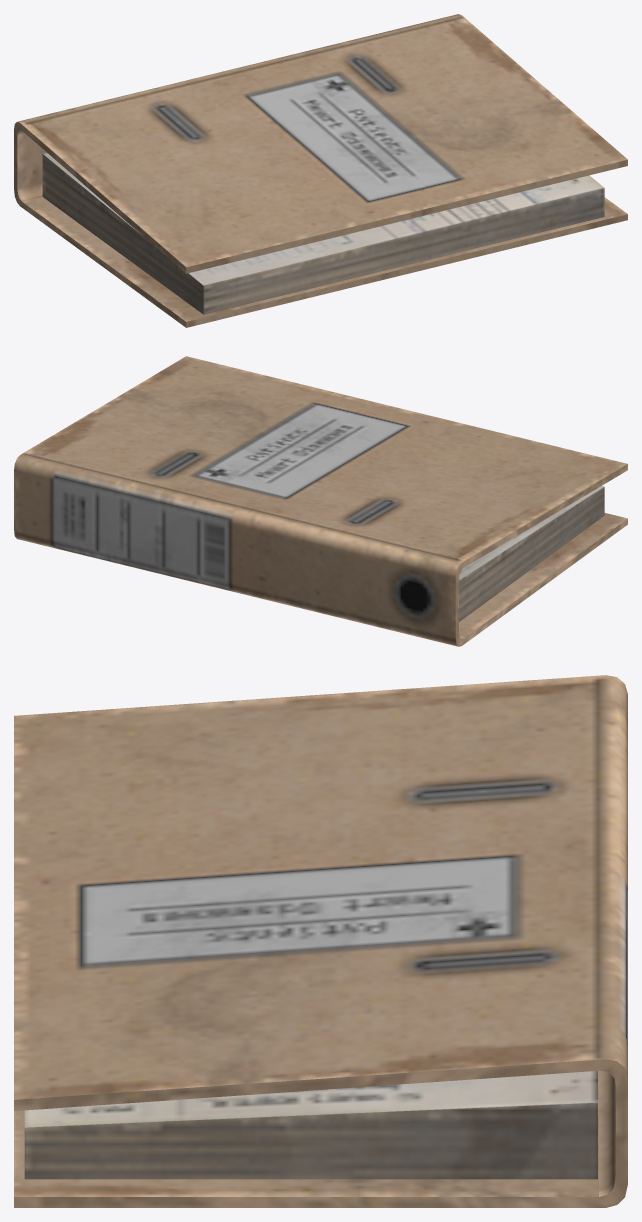
The model's file is HH_Registrar_Folder_01.fbx.
3 renders of one model, top to bottom at view 1: azimuth 30°, elevation 25°; view 2: azimuth 150°, elevation 25°; view 3: azimuth 270°, elevation 25°, orthographic. The views are drawn at different scales.
Visible parts, largest first — view 1: HH_Registrar_Folder_01; view 2: HH_Registrar_Folder_01; view 3: HH_Registrar_Folder_01.
Boxes of the visible parts, x1,y1,x2,y2 form: HH_Registrar_Folder_01: (14,14,627,327); HH_Registrar_Folder_01: (14,356,627,646); HH_Registrar_Folder_01: (14,675,627,1207).
Size of the model in its own units: 46.94 by 8.47 by 31.71.
